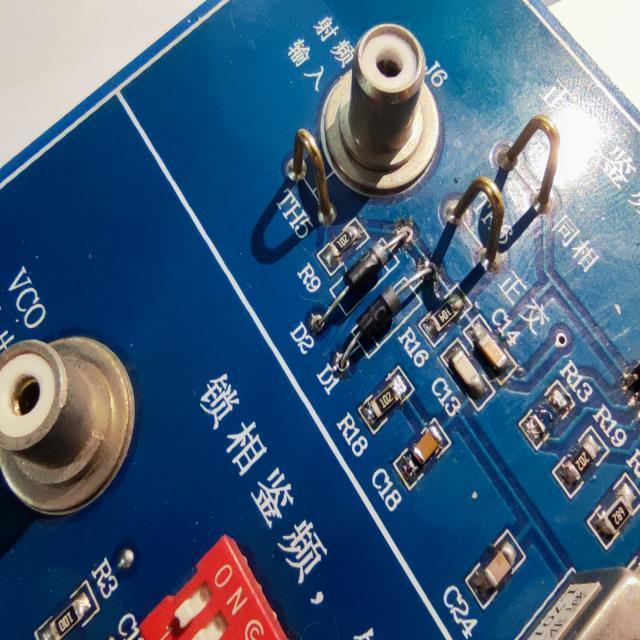Missing component: (512, 349, 598, 464)
